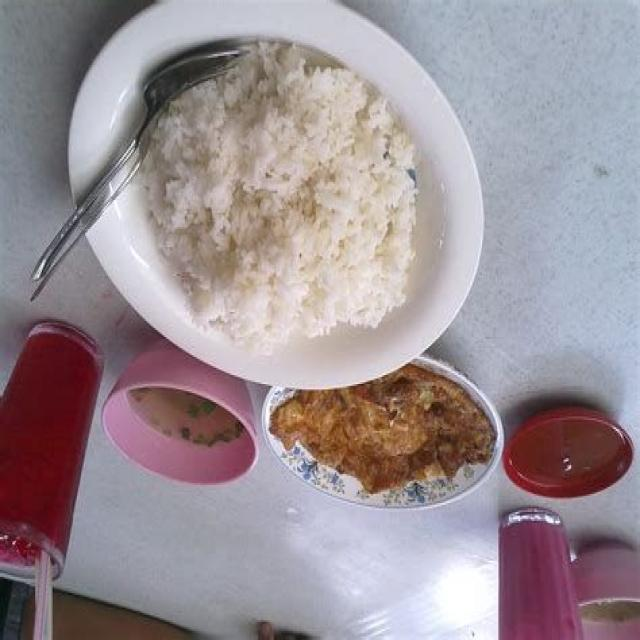nasi_putih: (141, 39, 420, 363)
